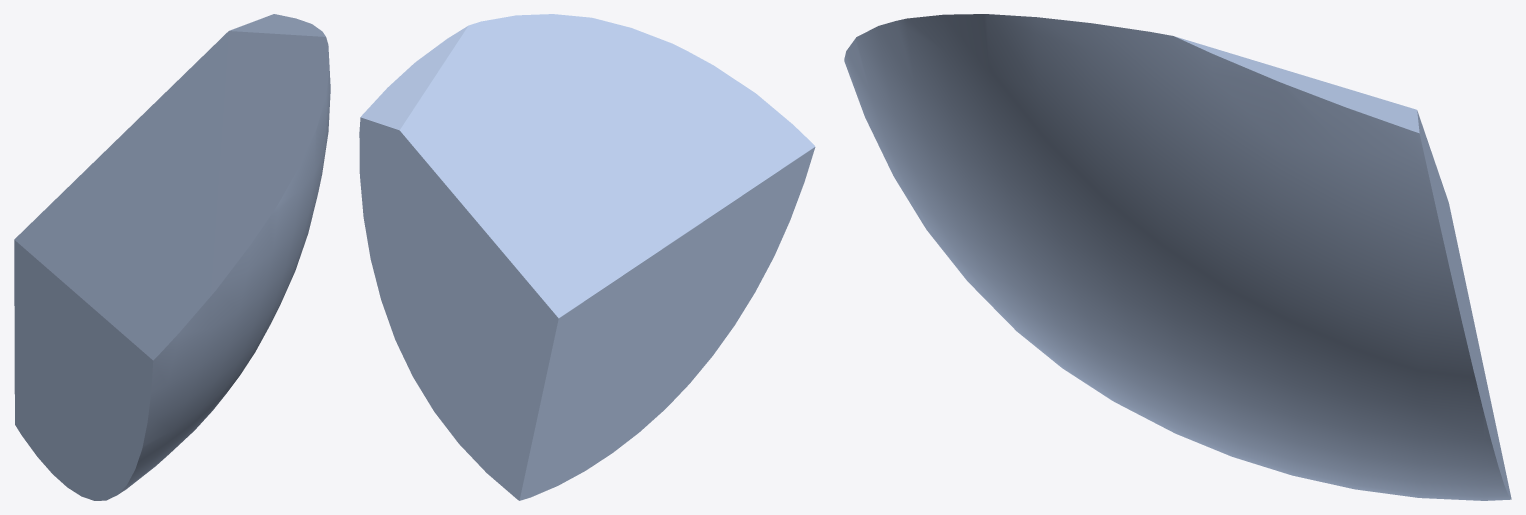
File: Ball2_7.fbx
3 renders of one model, left to right at view 1: azimuth 30°, elevation 25°; view 2: azimuth 150°, elevation 25°; view 3: azimuth 270°, elevation 25°, orthographic. The views are drawn at different scales.
Visible parts, largest first — view 1: Cube_cell.068; view 2: Cube_cell.068; view 3: Cube_cell.068.
Part boxes in pixels (x1,y1,x2,y2): Cube_cell.068: (14, 14, 330, 500); Cube_cell.068: (359, 14, 815, 500); Cube_cell.068: (844, 14, 1511, 500).
Bounding box in the file's own units: 63.78 × 80.04 × 81.81.
